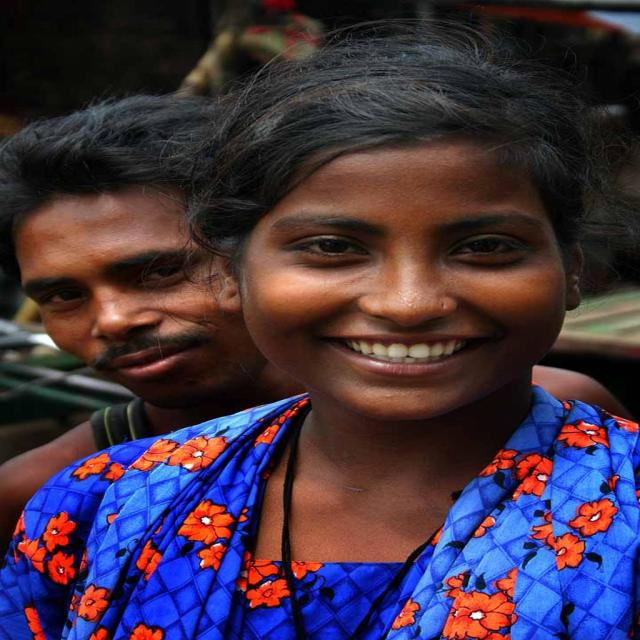nomask: (240, 146, 569, 419), (13, 200, 264, 406)
